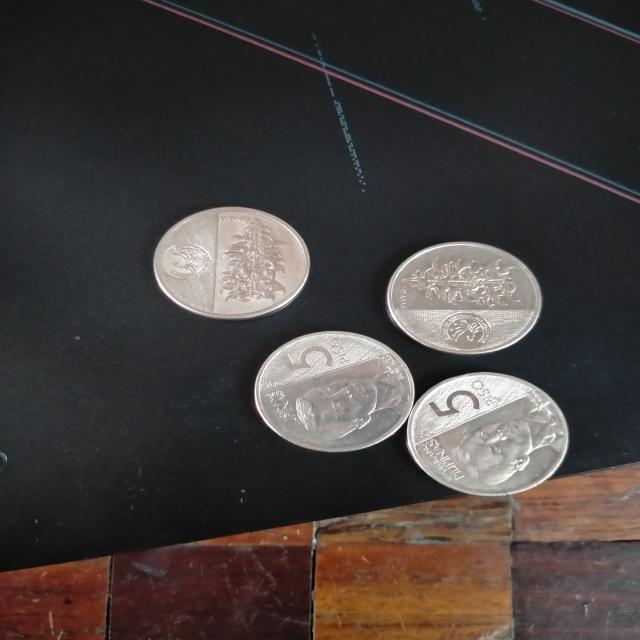5_New_Back: (206, 212, 303, 306), (390, 241, 524, 309)
5_New_Front: (413, 372, 488, 423), (264, 330, 348, 375)
